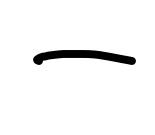minus: (31, 49, 138, 68)
